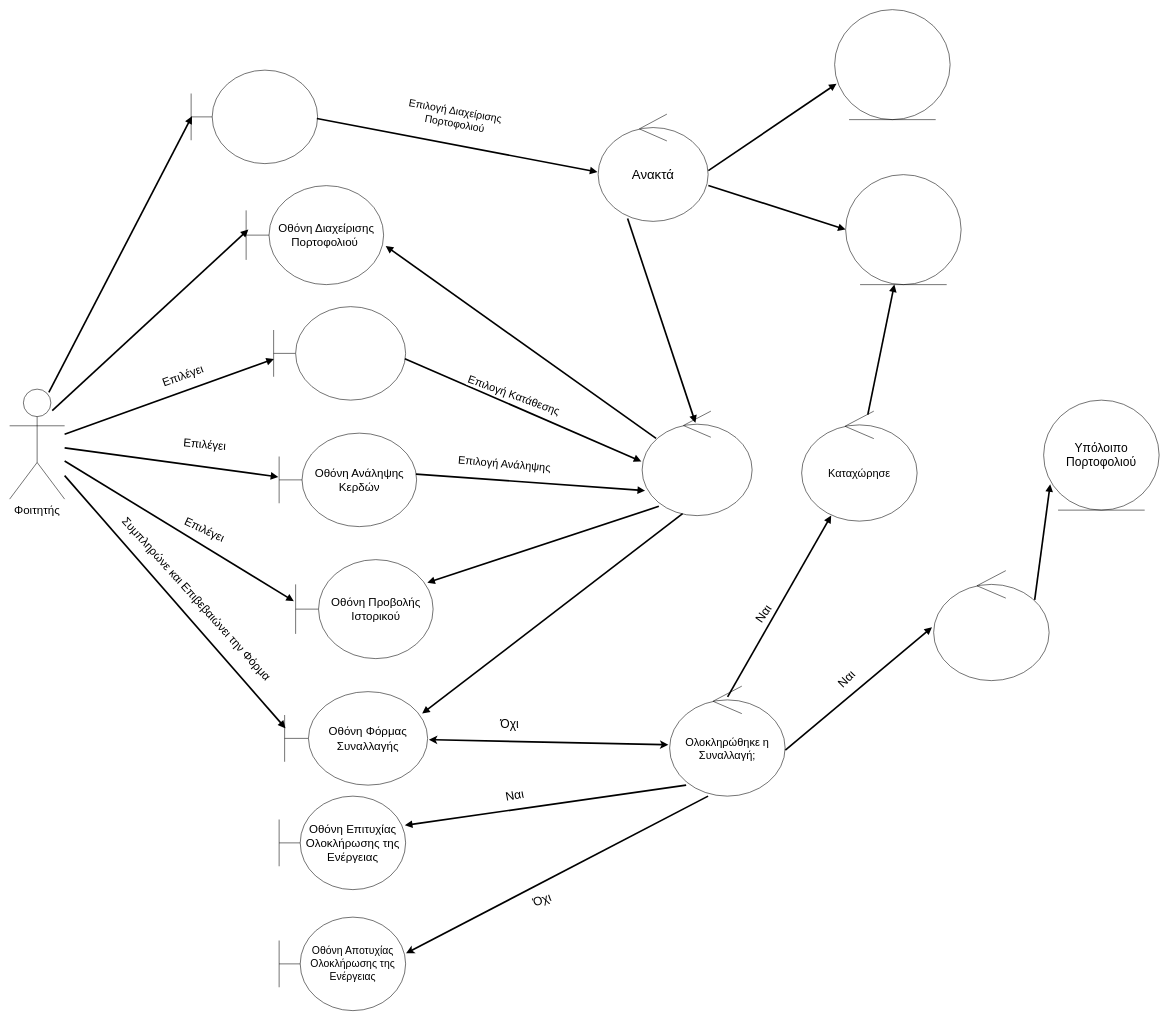
Image size: 1169x1020. Some labels were removed from this diagram. The shapes that lost their labels are listed below. From the top down, each one's box as (x1, y1, x2, y2) in pixels, then its label:
(834, 9, 950, 120): Διαθέσιμο Υπόλοιπο
(191, 70, 318, 164): Οθόνη Κεντρικό Μενού
(845, 174, 961, 285): Ιστορικό Συναλλαγών
(273, 306, 406, 400): Οθόνη Κατάθεσης Χρημάτων
(642, 411, 752, 516): Εμφανίζει
(933, 570, 1049, 681): Ενημέρωσε
